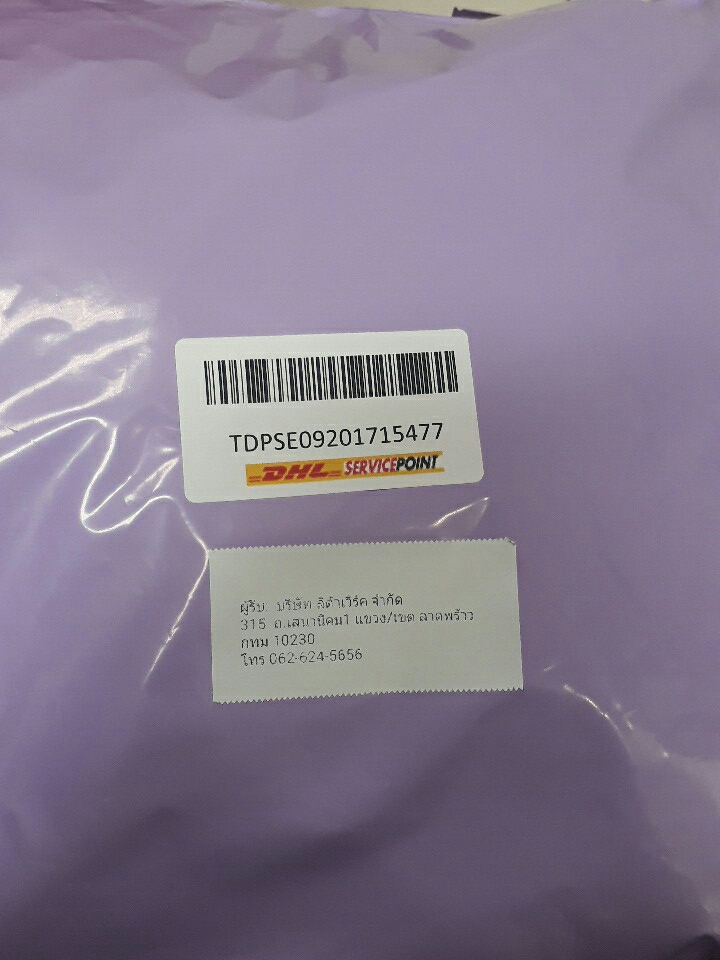ba: (171, 325, 494, 506)
txt: (229, 587, 482, 669)
